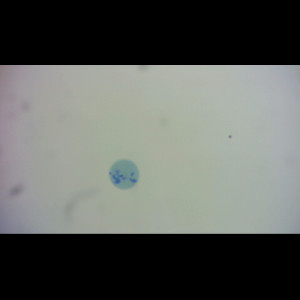aggregate reticulocyte: (107, 158, 140, 191)
